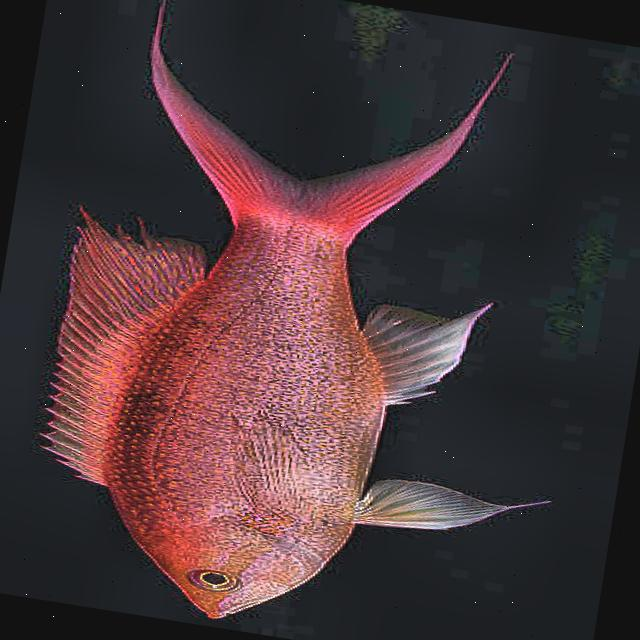fish: (12, 0, 623, 640)
